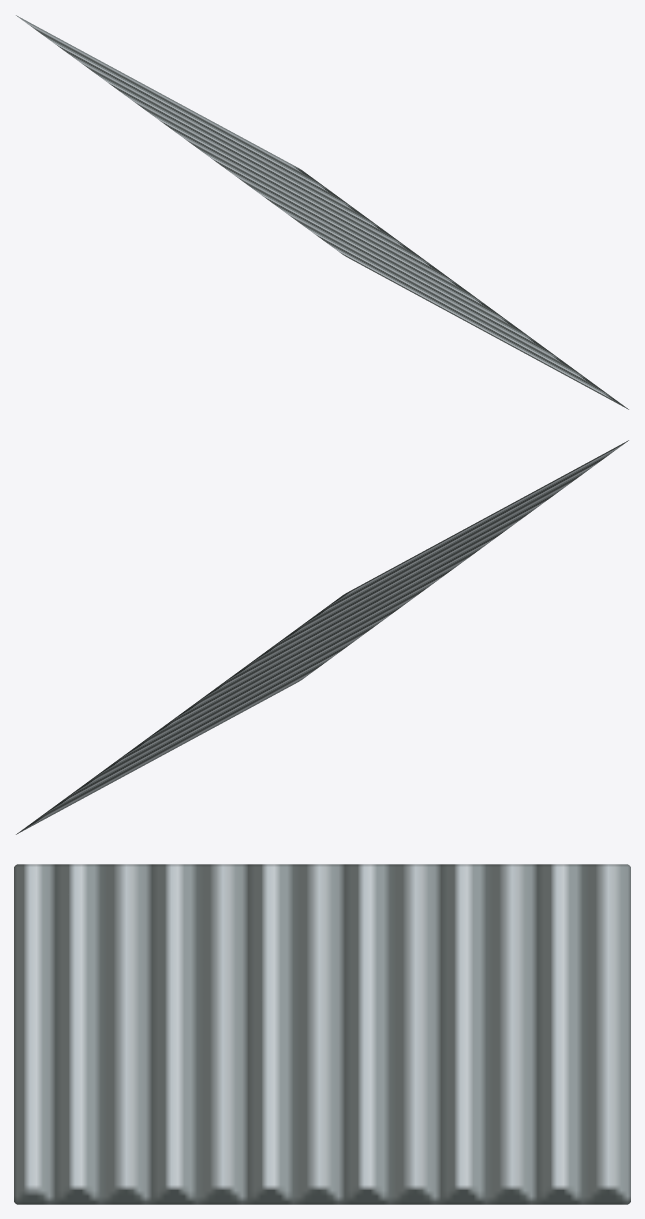
File: Techo de lamina Inclinado.fbx
3 renders of one model, top to bottom at view 1: azimuth 30°, elevation 25°; view 2: azimuth 150°, elevation 25°; view 3: azimuth 270°, elevation 25°, orthographic. The views are drawn at different scales.
Visible parts, largest first — view 1: Techo 1; view 2: Techo 1; view 3: Techo 1.
Part boxes in pixels (left/top/right/bottom): Techo 1: left=16, top=15, right=628, bottom=409; Techo 1: left=16, top=440, right=628, bottom=834; Techo 1: left=14, top=864, right=630, bottom=1204.
Bounding box in the file's own units: 150 × 113 × 300.
Materials: 1 (1 with a texture image).
